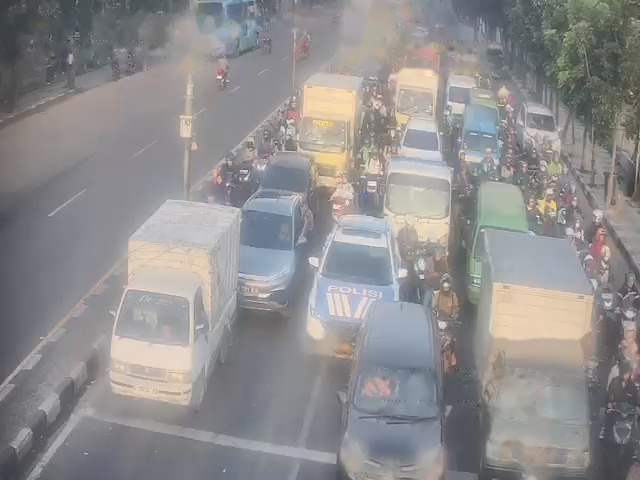Mobil: (113, 192, 235, 415), (489, 237, 592, 470), (355, 292, 442, 471), (230, 193, 300, 310), (323, 221, 382, 341), (472, 181, 521, 269), (457, 106, 499, 171), (517, 101, 562, 156), (399, 111, 438, 162)
Motor: (609, 404, 635, 449), (596, 282, 616, 319), (439, 311, 453, 355), (329, 193, 342, 222), (234, 163, 249, 188), (258, 151, 271, 176), (413, 253, 424, 279), (364, 175, 374, 203), (623, 309, 632, 331)
Truk: (293, 66, 362, 173), (386, 156, 447, 262)
